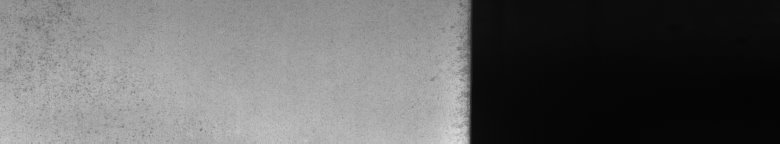ib: (6, 4, 124, 128)
